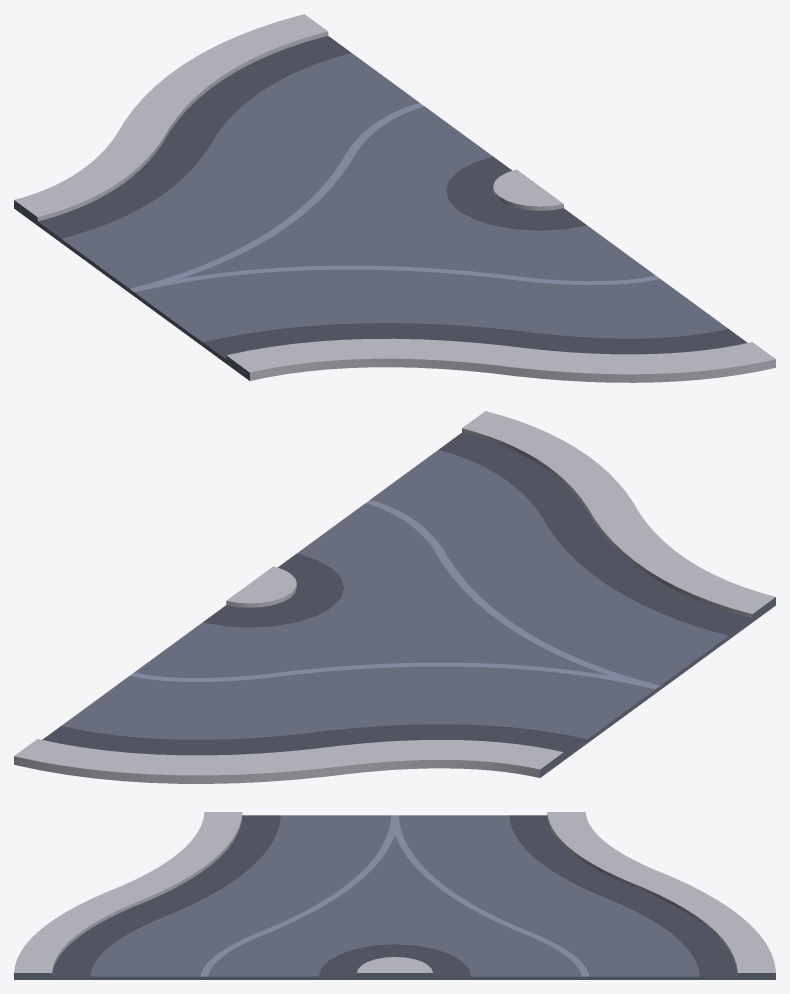
Rendered from Road Split.glb.
The picture shows the model from 3 angles, top to bottom: view 1: azimuth 30°, elevation 25°; view 2: azimuth 150°, elevation 25°; view 3: azimuth 270°, elevation 25°; orthographic projection. The views are drawn at different scales.
Parts seen in each view (by area): view 1: road_split; view 2: road_split; view 3: road_split.
Boxes of the visible parts, x1,y1,x2,y2 form: road_split: (14, 14, 775, 382); road_split: (14, 411, 775, 783); road_split: (14, 812, 775, 979).
Bounding box in the file's own units: 1 × 0.02 × 2.
